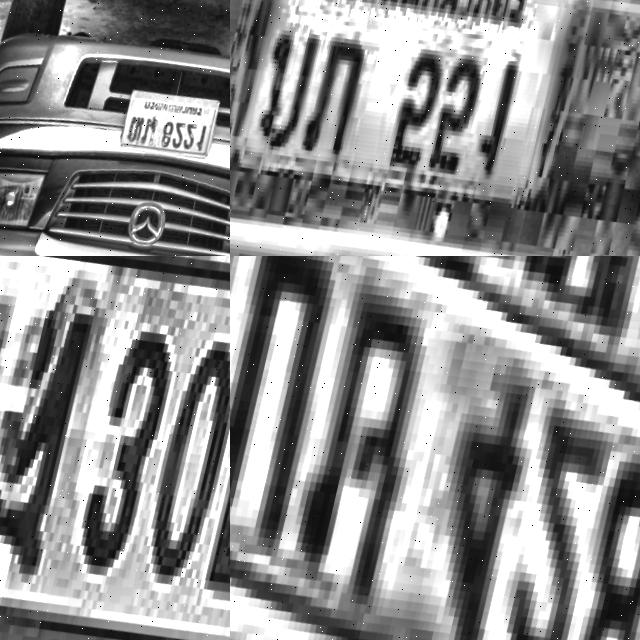license-plate: (230, 256, 640, 640), (230, 0, 606, 256), (0, 256, 230, 640), (117, 86, 222, 177)
